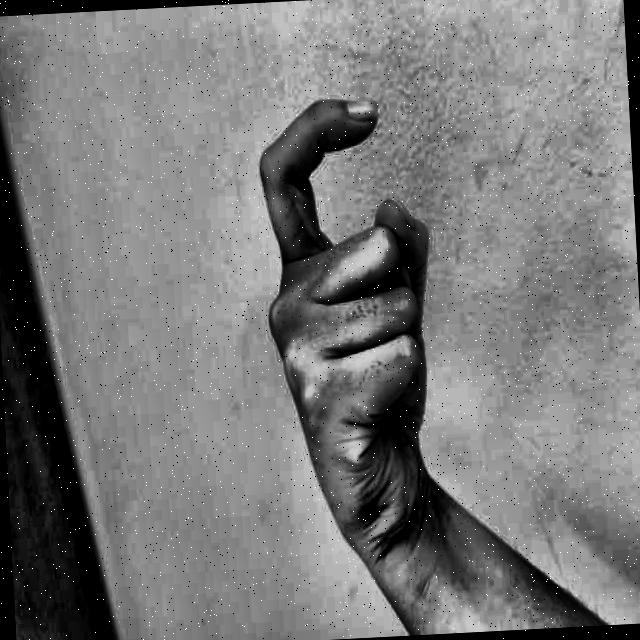E: (218, 60, 507, 558)
